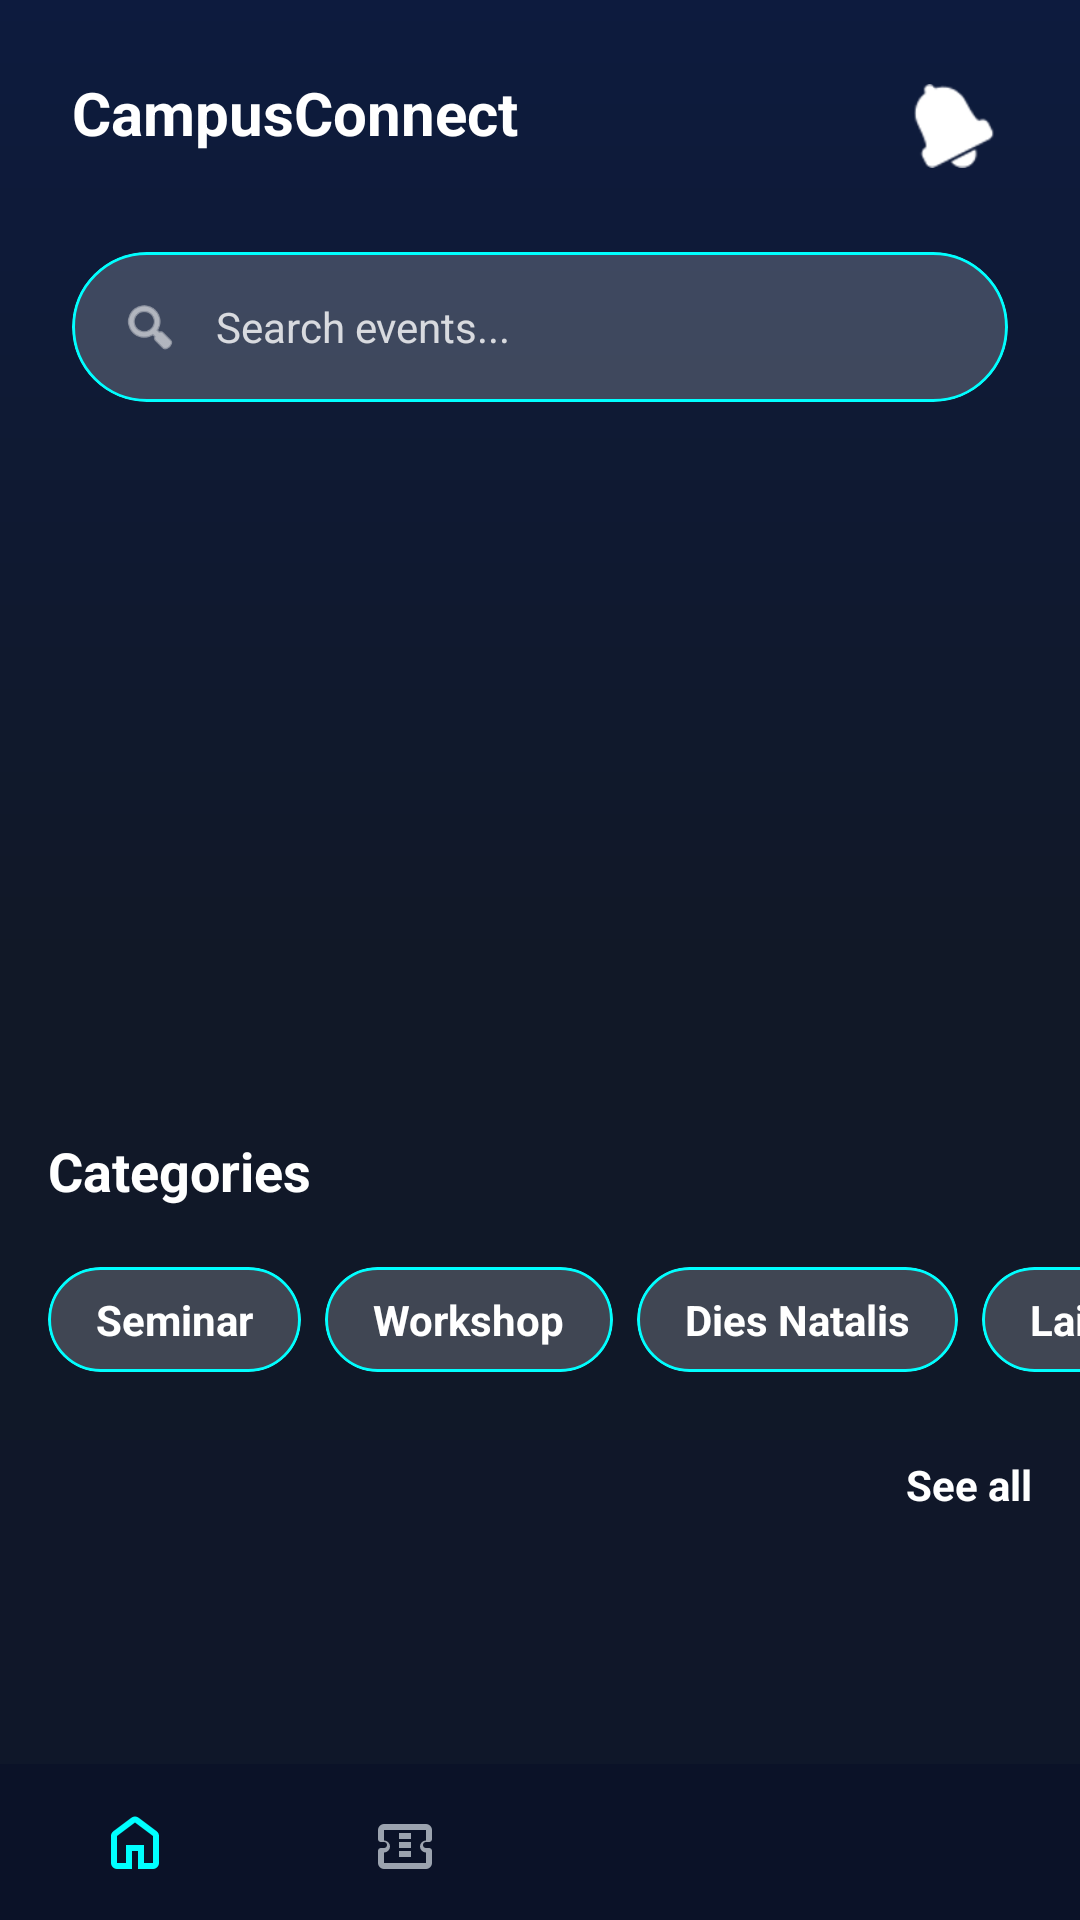

Screen size 1080×1920. Icon name, then its center in pixels as [x,y]:
popup reminder: [954,126]
